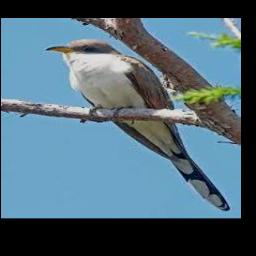Cuckoo: (44, 38, 230, 211)
